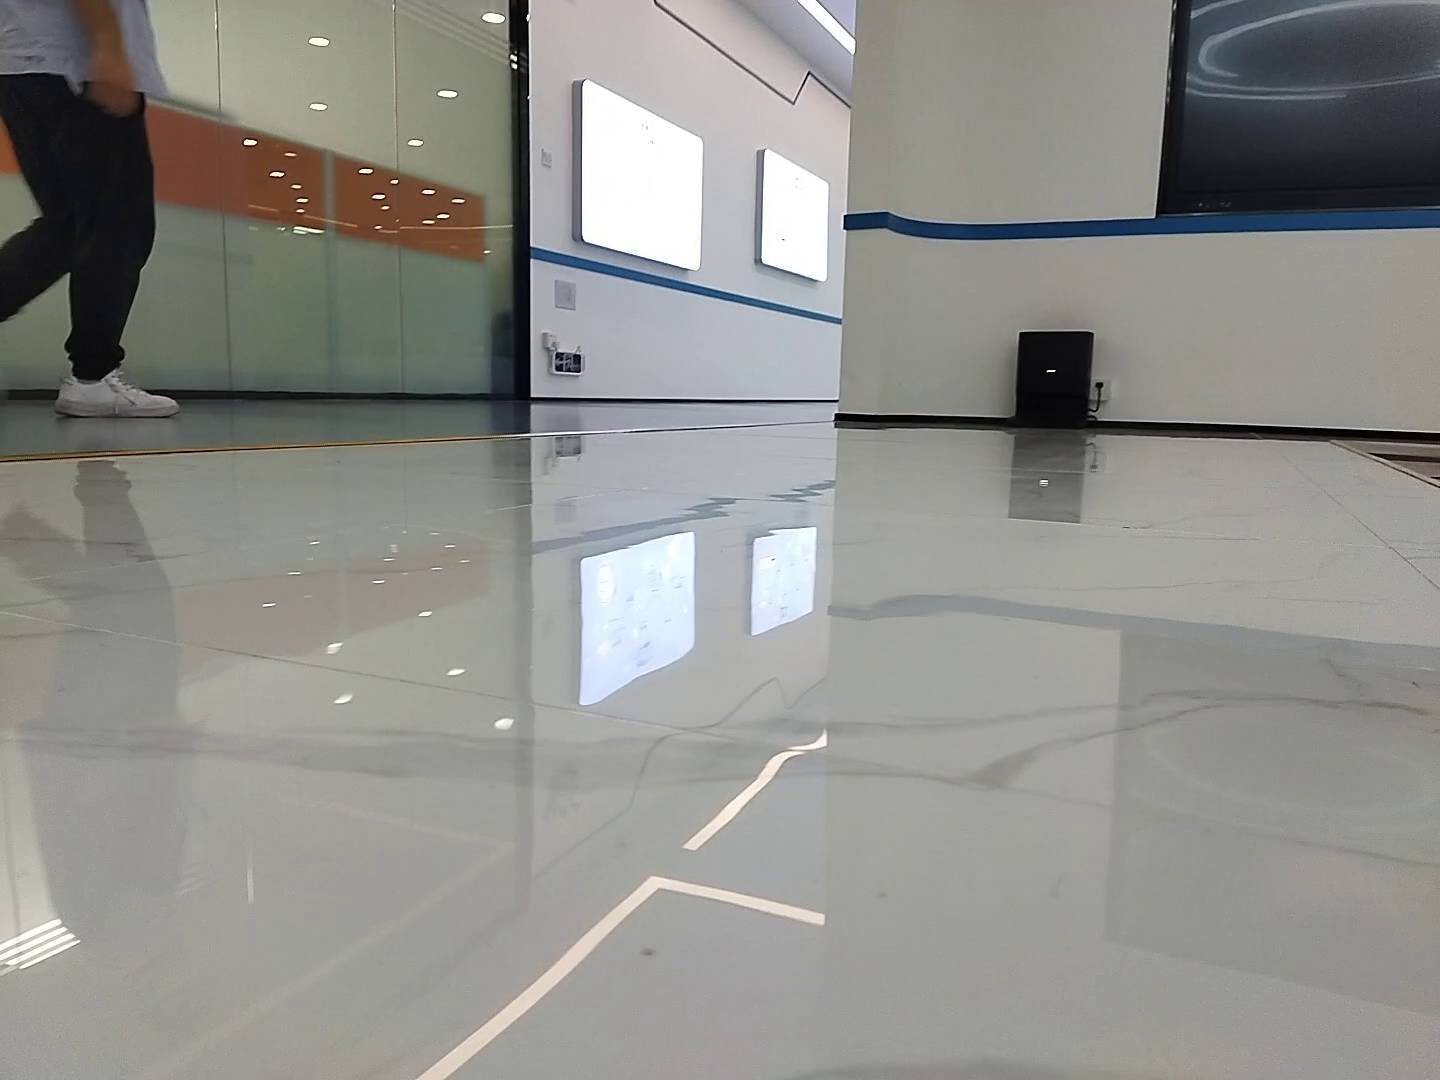dust collecting barrel: (993, 332, 1099, 432)
